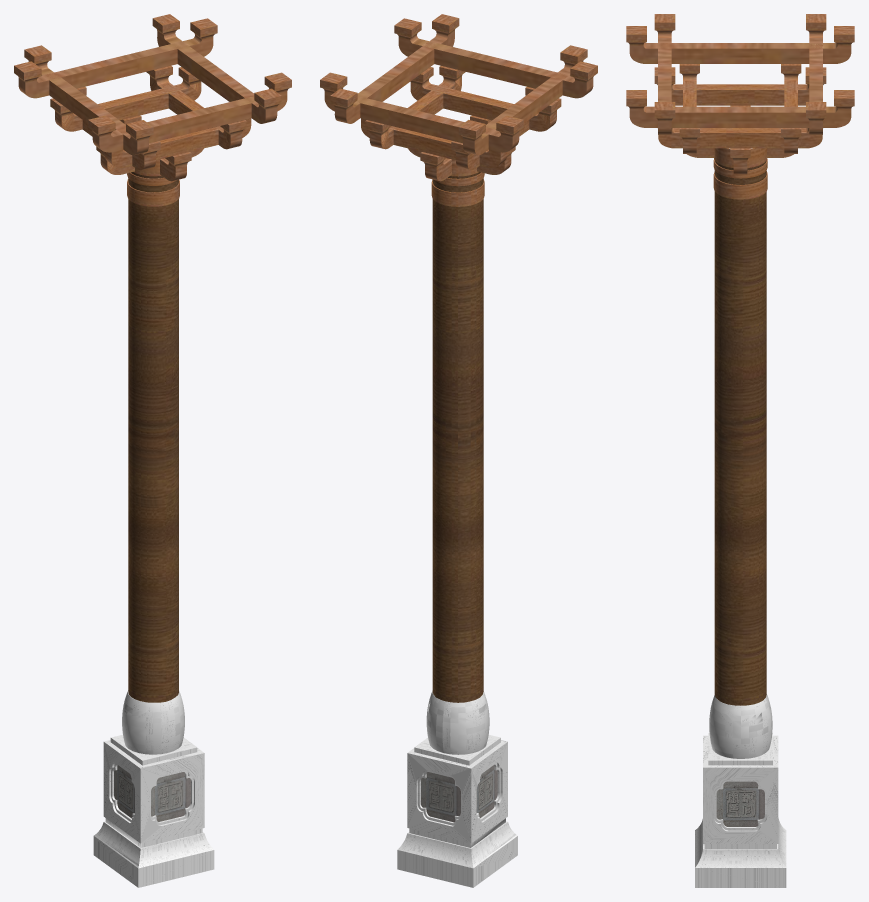
3 renders of one model, left to right at view 1: azimuth 30°, elevation 25°; view 2: azimuth 150°, elevation 25°; view 3: azimuth 270°, elevation 25°, orthographic. The views are drawn at different scales.
Visible parts, largest first — view 1: R5L6; view 2: R5L6; view 3: R5L6.
Part boxes in pixels (x1,y1,x2,y2): R5L6: (14,14,291,887); R5L6: (320,14,597,887); R5L6: (626,14,854,887).
Bounding box in the file's own units: 12.83 × 50 × 12.84.
5 materials, 4 textured.
